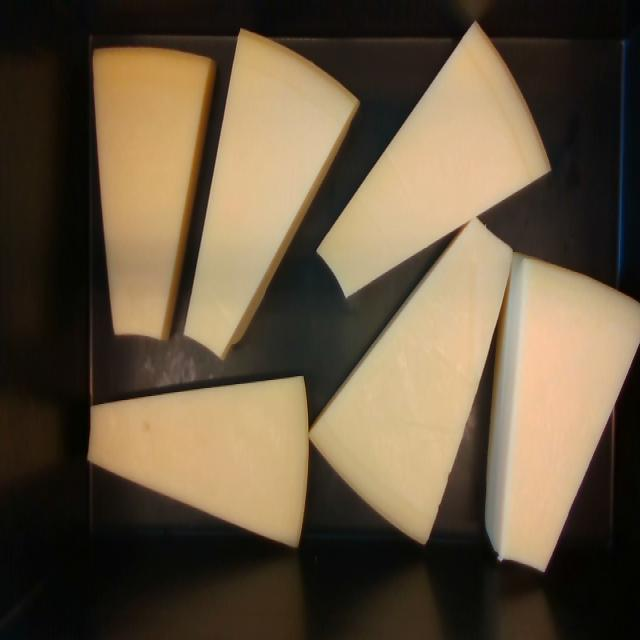cheese: (307, 219, 513, 541), (318, 24, 548, 293), (183, 31, 357, 359), (503, 261, 639, 567), (90, 379, 306, 543), (95, 49, 212, 337)
